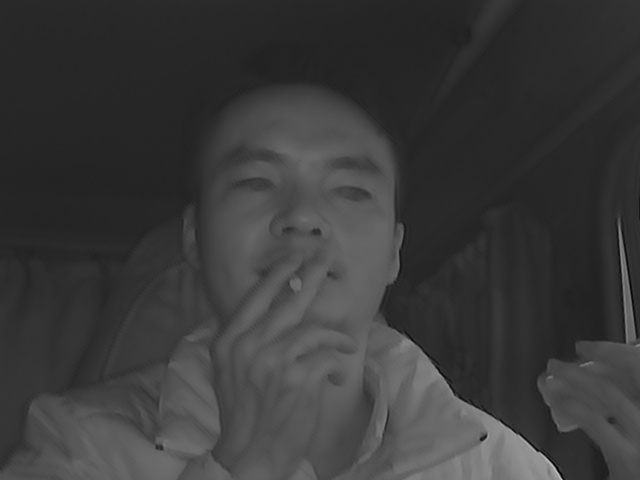hand: (231, 254, 358, 397)
